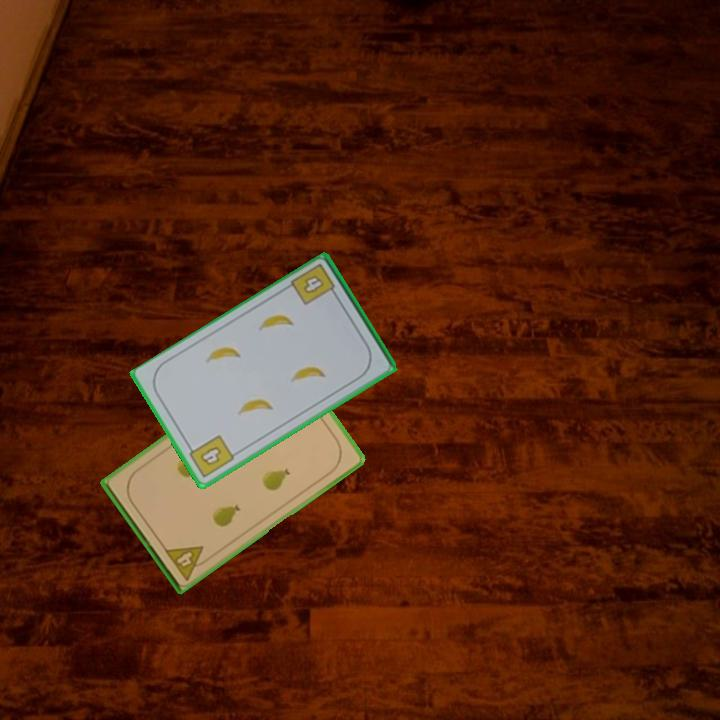4b: (184, 431, 237, 481), (288, 260, 341, 308)
4p: (161, 542, 213, 583)
